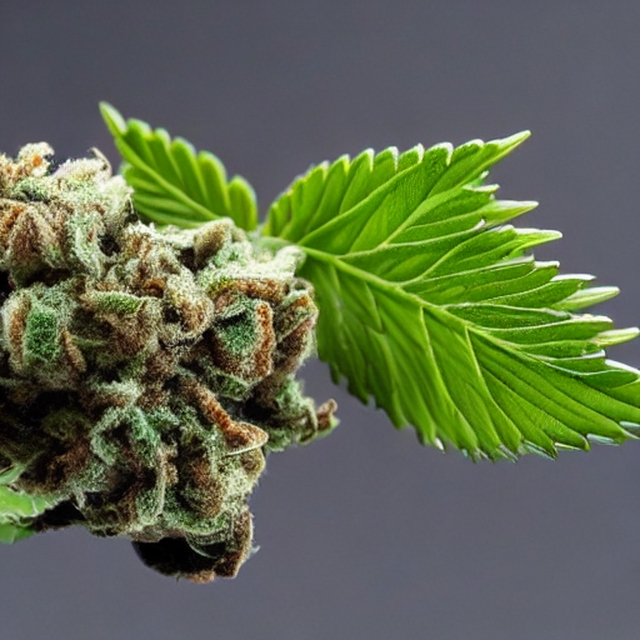Marijuana Leaf: (0, 99, 640, 583), (96, 99, 640, 466)
